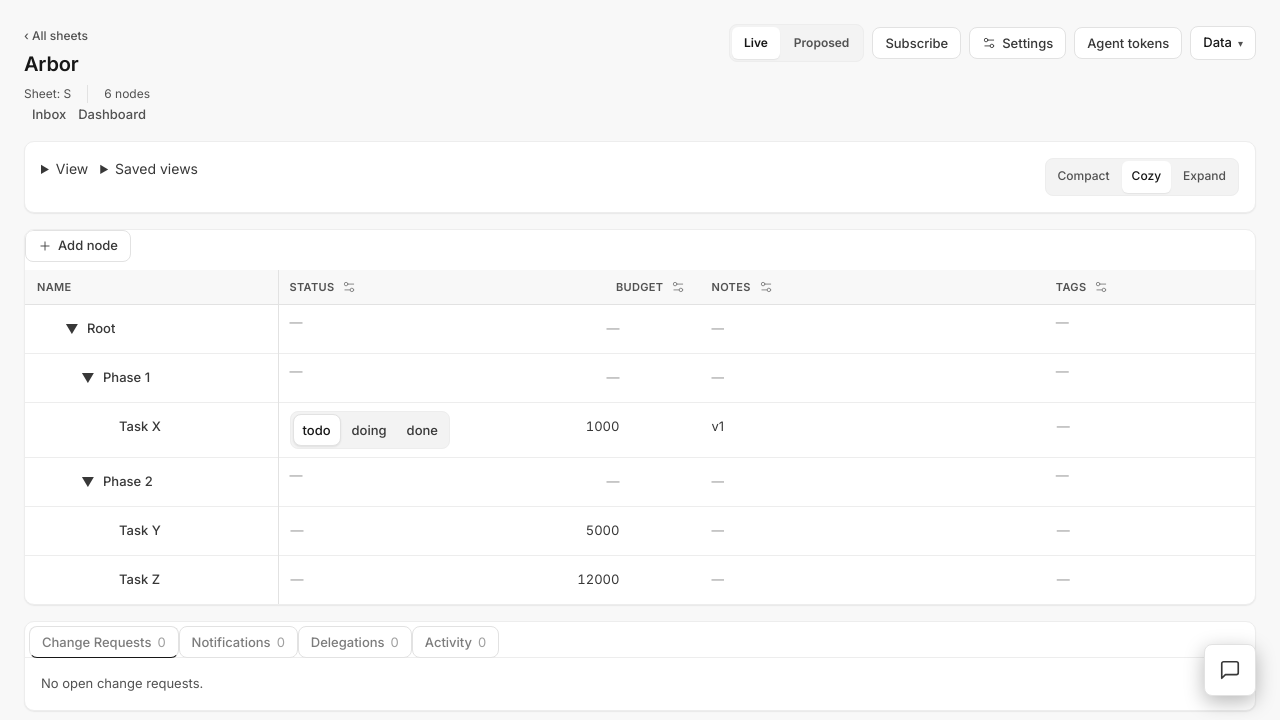
Test case: SavedViewsMenu — applying › applying a view hides the columns it names, and Default view restores them
Expected: the table with test id "tree-table" is shown, [25,270,1255,604]
Click the heading "Saved views": (157, 168) [115,160,198,176]
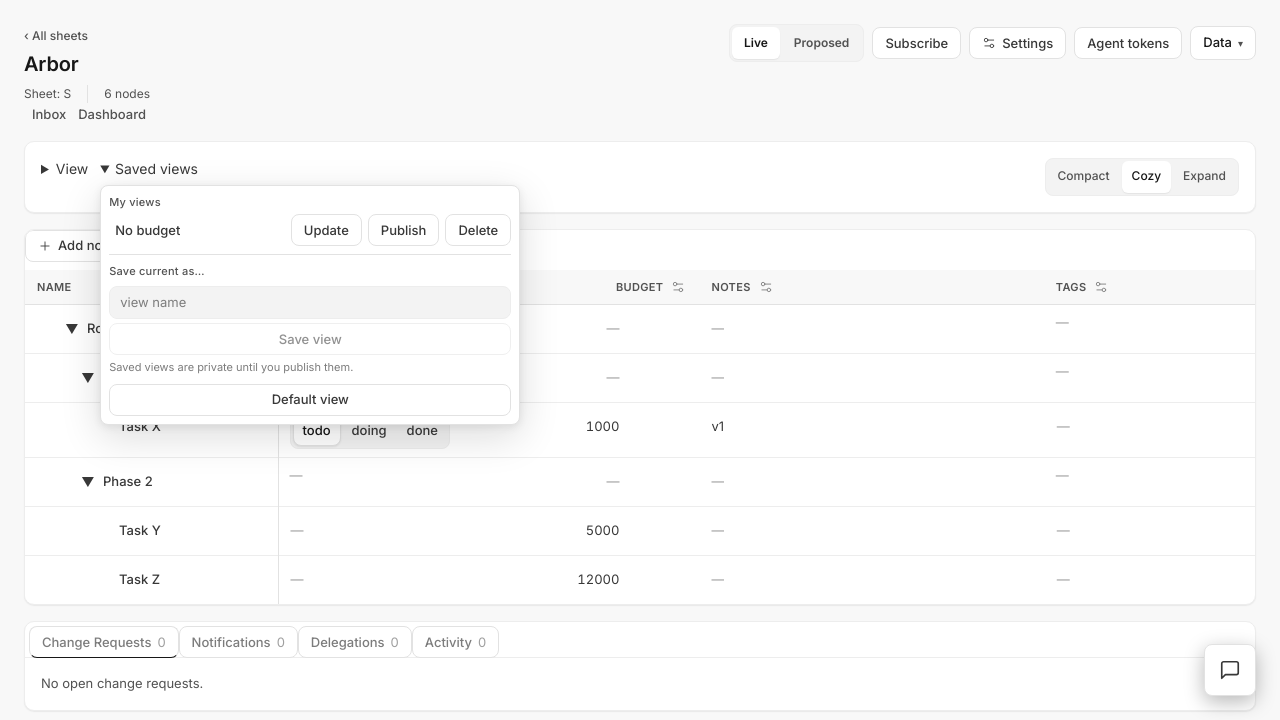
Click the button with test id "saved-view-apply-SV-1": (197, 230) [109,216,285,244]
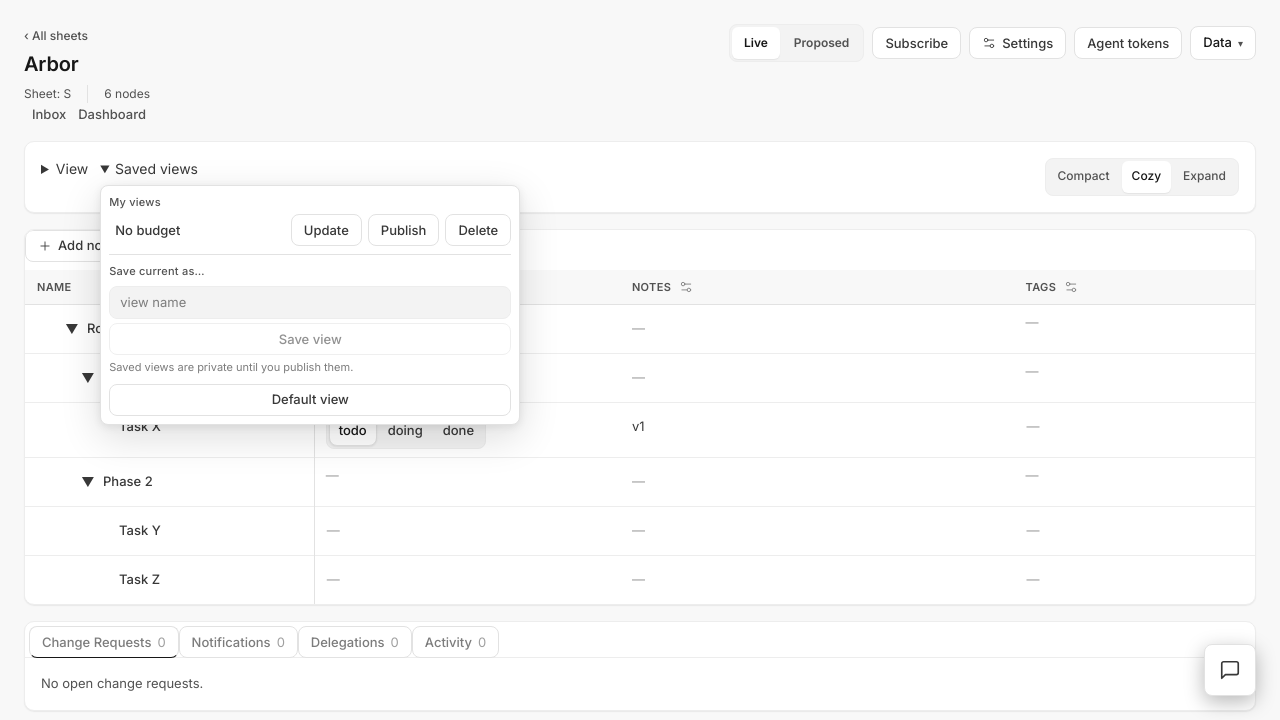
Click the button with test id "saved-views-reset": (310, 400) [109,384,511,416]
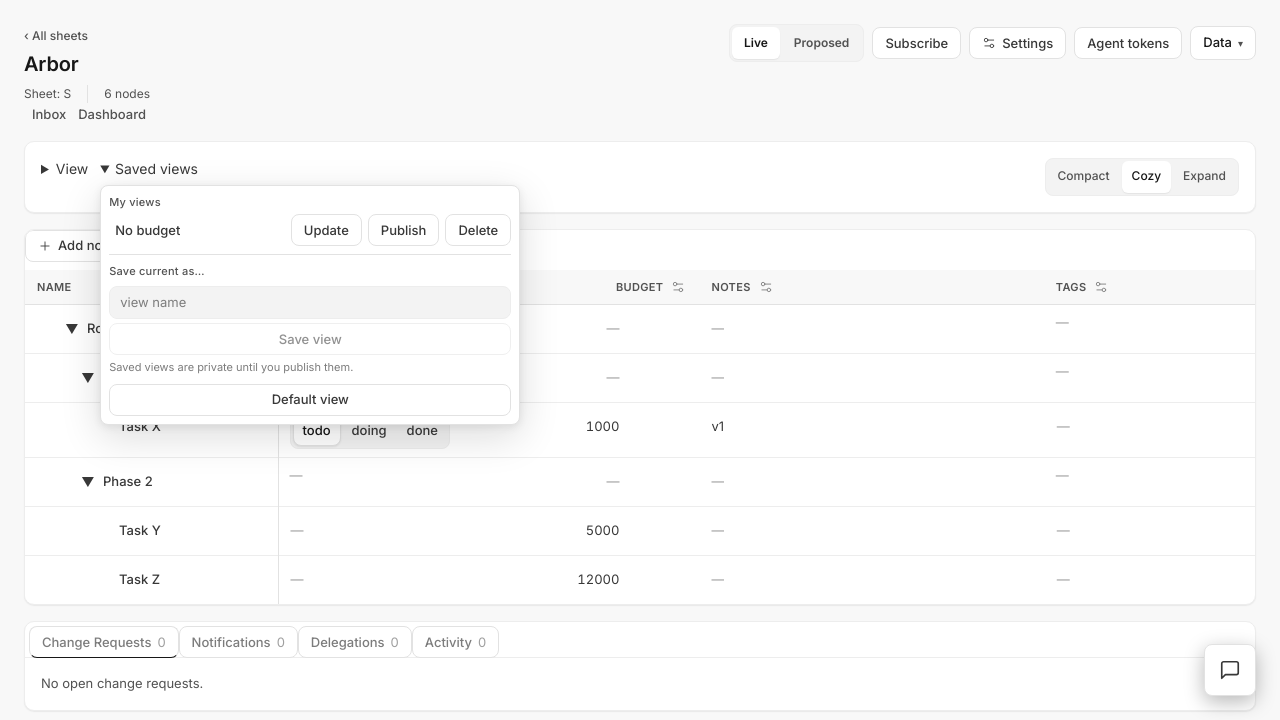
Expected: the text "Budget" is shown, [616,278,687,295]
